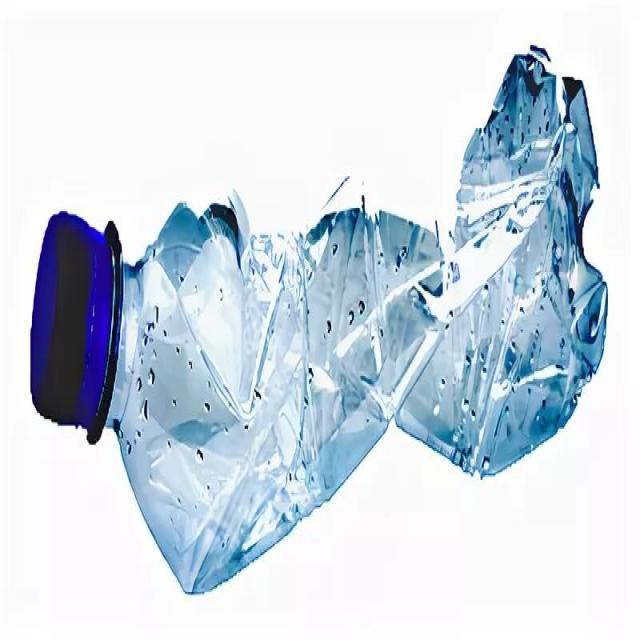blue: (96, 41, 609, 596)
